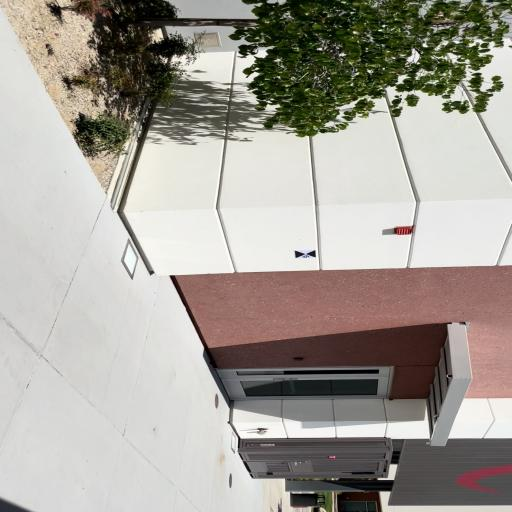target6: (294, 250, 316, 258)
